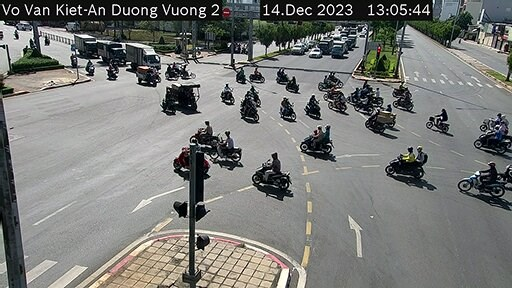car: (308, 48, 322, 64), (292, 42, 304, 57)
motorbike: (457, 158, 503, 197), (387, 141, 428, 183), (256, 152, 295, 189), (475, 116, 511, 156), (299, 124, 337, 159), (366, 104, 388, 136), (277, 95, 299, 127), (317, 69, 346, 90), (238, 96, 259, 125), (327, 88, 352, 111), (303, 90, 320, 121), (272, 64, 291, 86), (284, 75, 304, 95), (222, 81, 235, 103)
truck: (127, 40, 162, 73), (68, 34, 103, 62), (102, 39, 129, 64), (333, 40, 344, 58)
